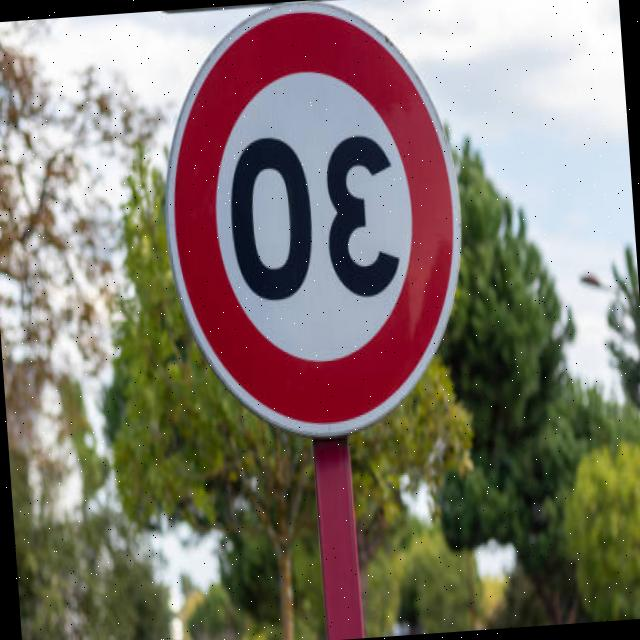speed_limit_30: (145, 0, 486, 451)
